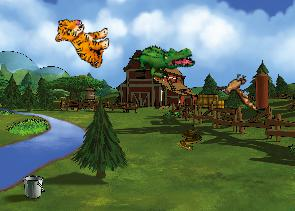crocodile: (128, 31, 197, 88)
eagle: (212, 69, 265, 113)
tiger: (52, 16, 112, 68)
